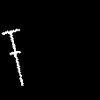double_crochet: (2, 29, 22, 84)
